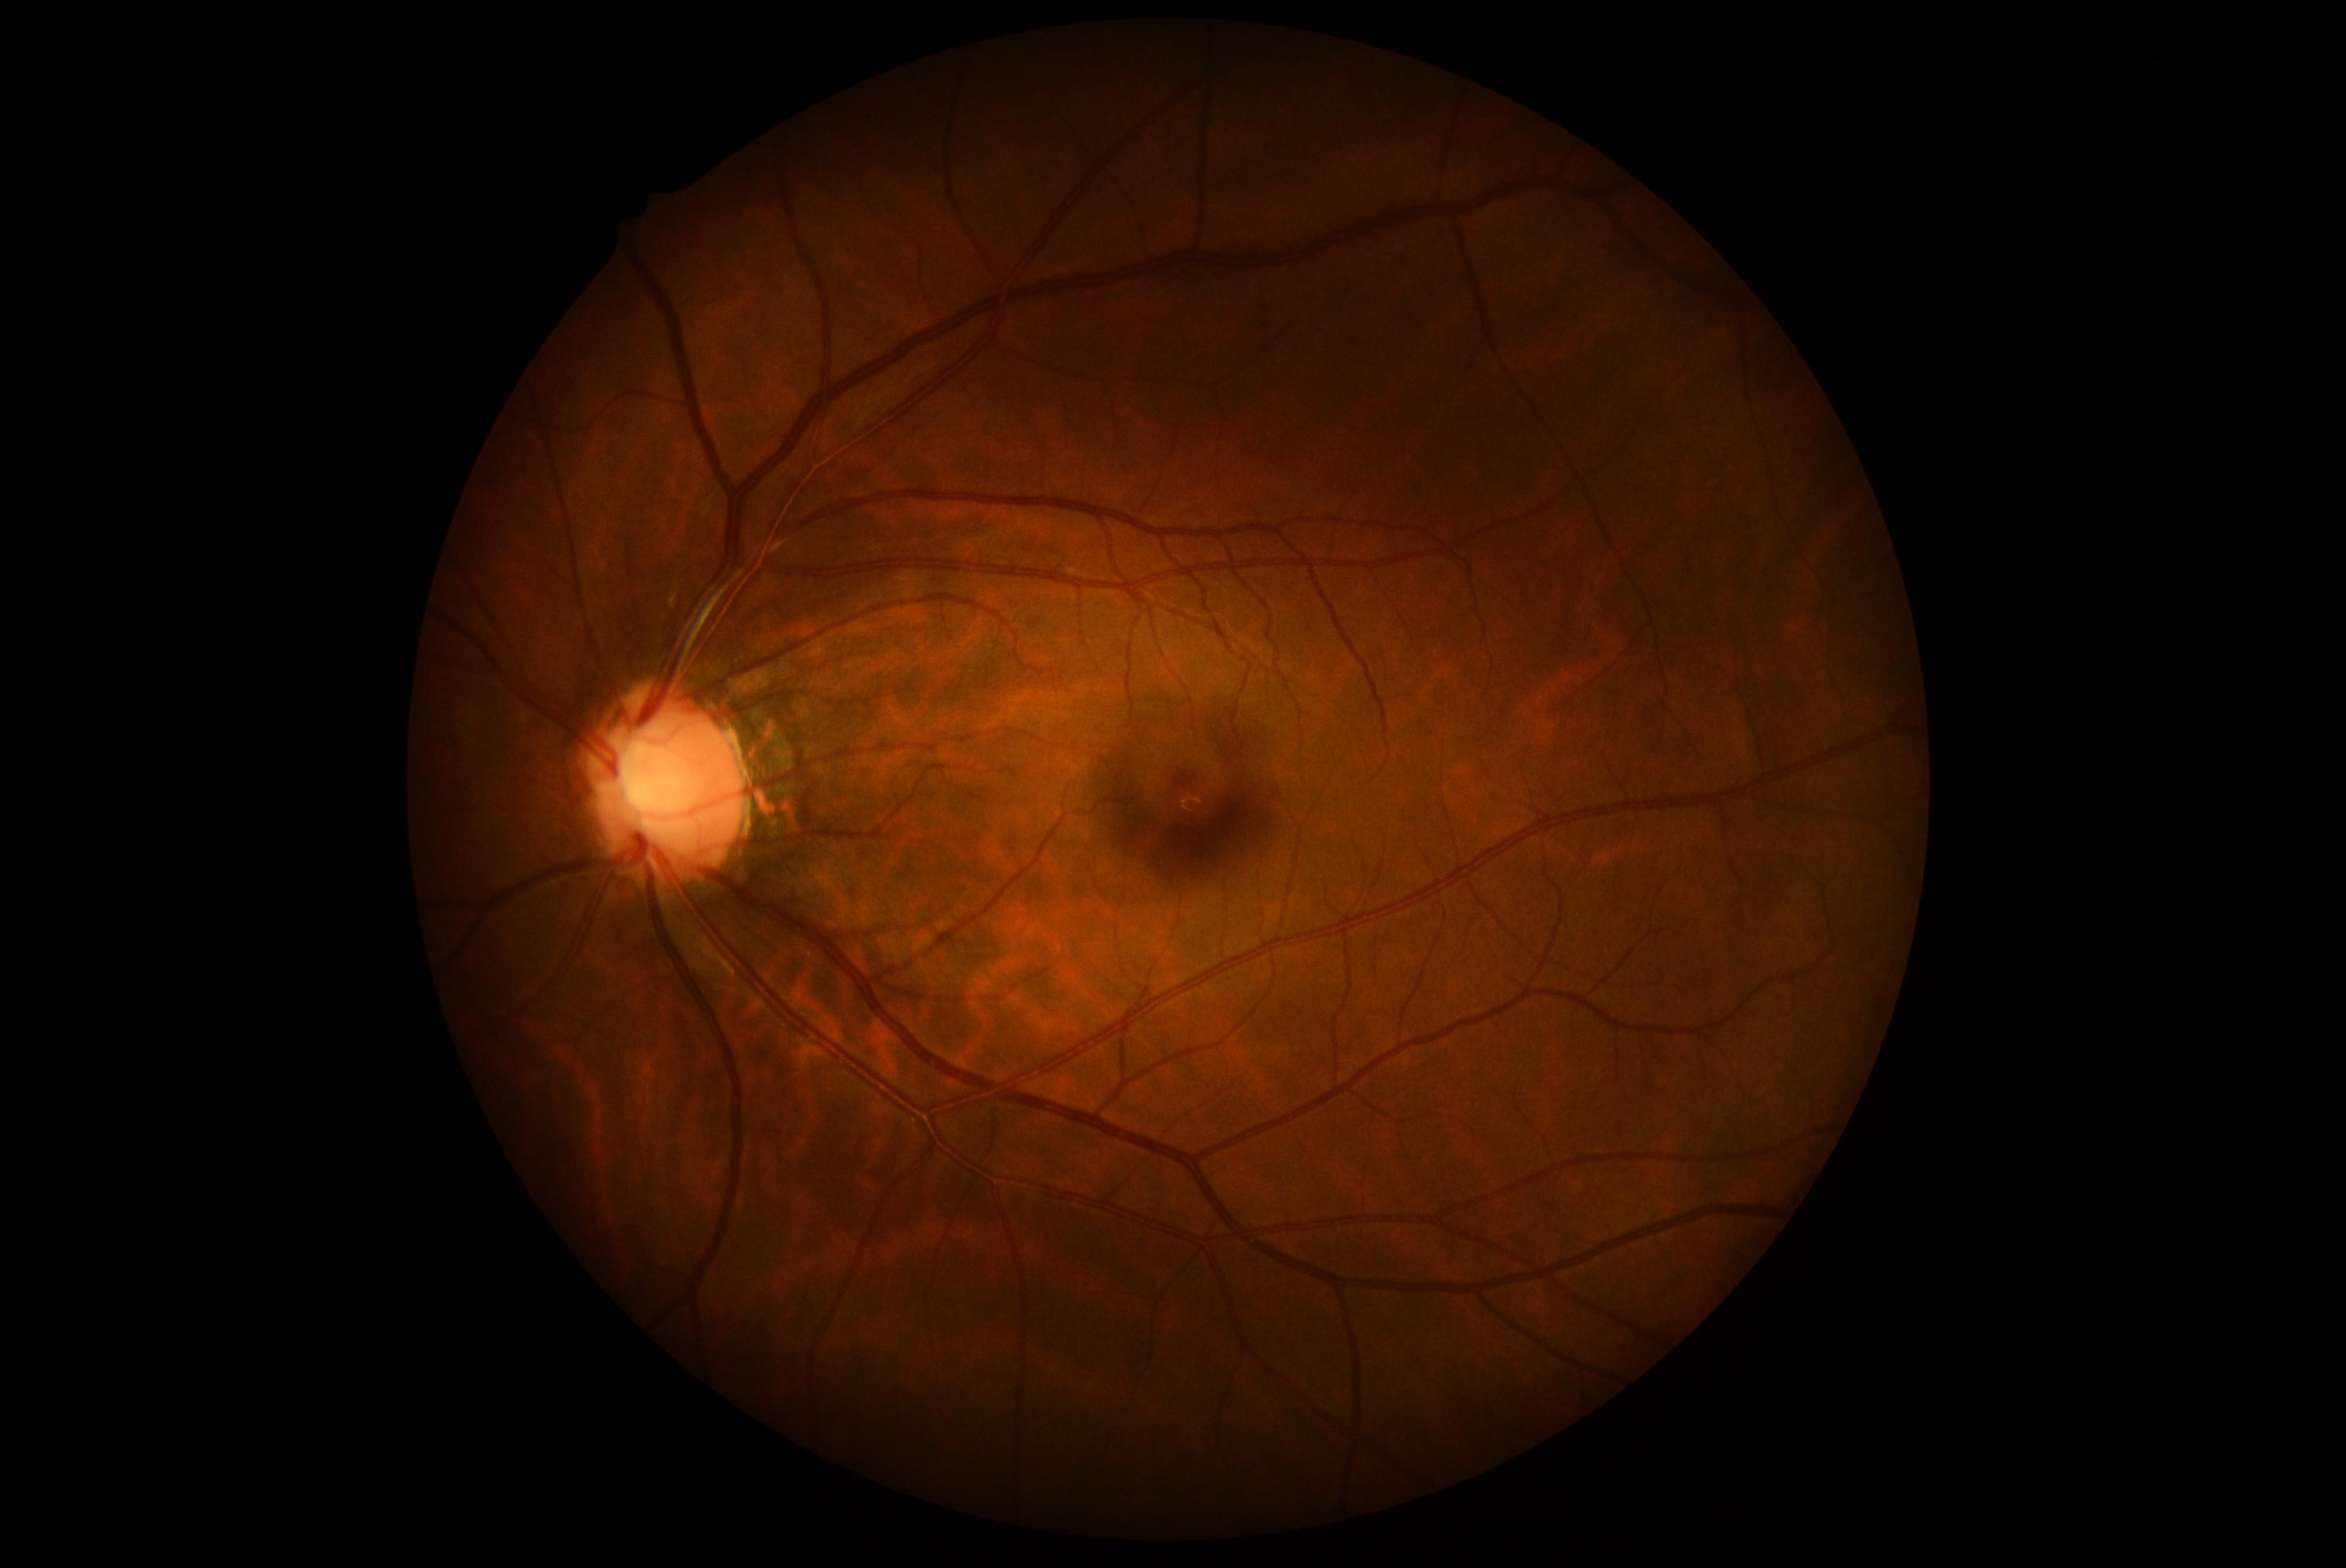Fovea: (1109, 714, 1274, 880)
